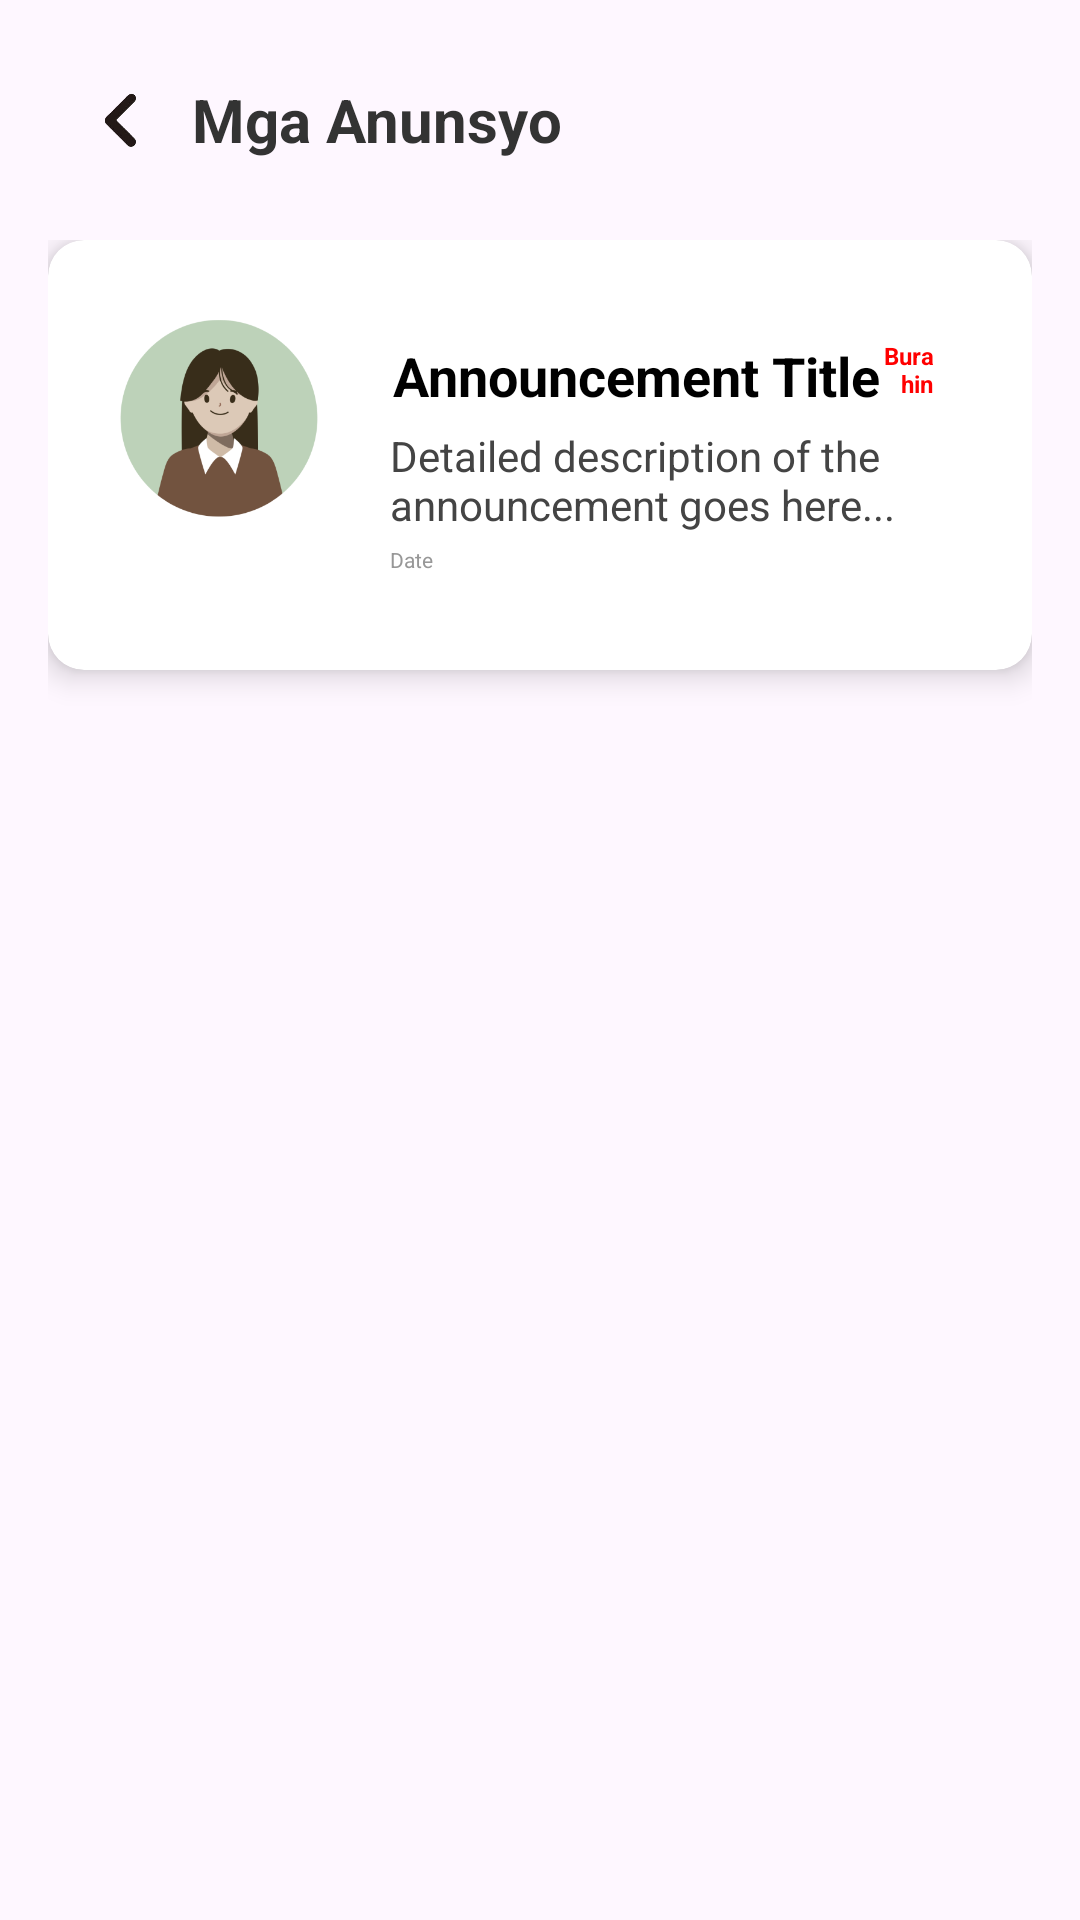

Named icons in this screenshot (1080px x 1920px) and their bounding boxes, (x1, y1, x2, y2):
back: (105, 94, 136, 147)
profile: (120, 320, 318, 517)
